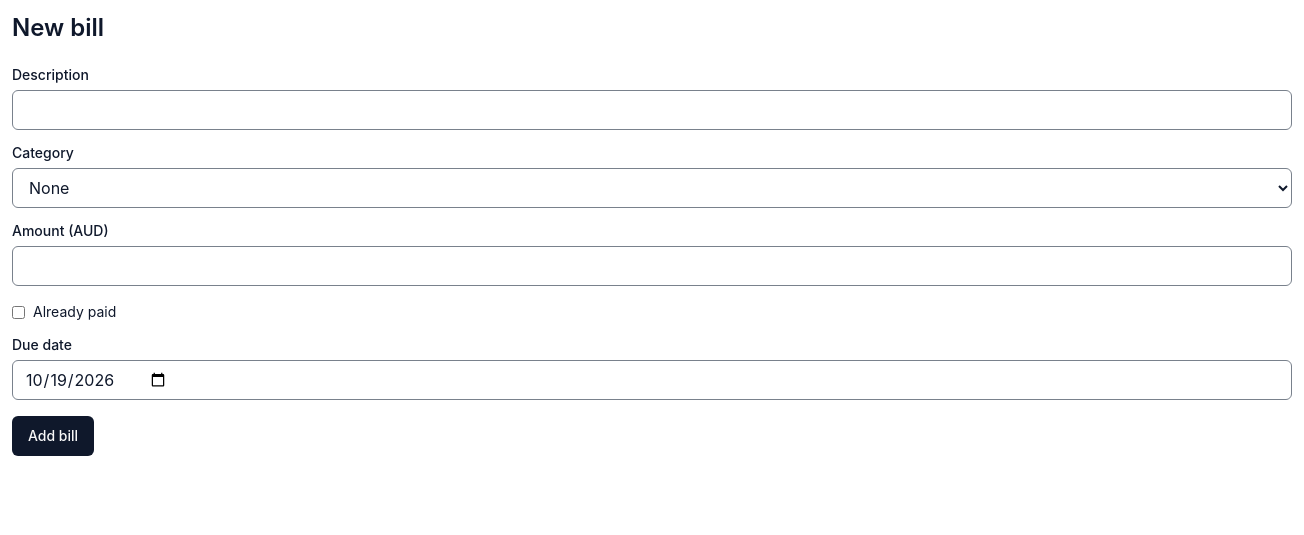
NewBillPage › shows the CONFLICT for no row with the ID (a write clash)
In the field labelled "Description": coordinates (652, 110) [12,90,1292,130], type "Phone"
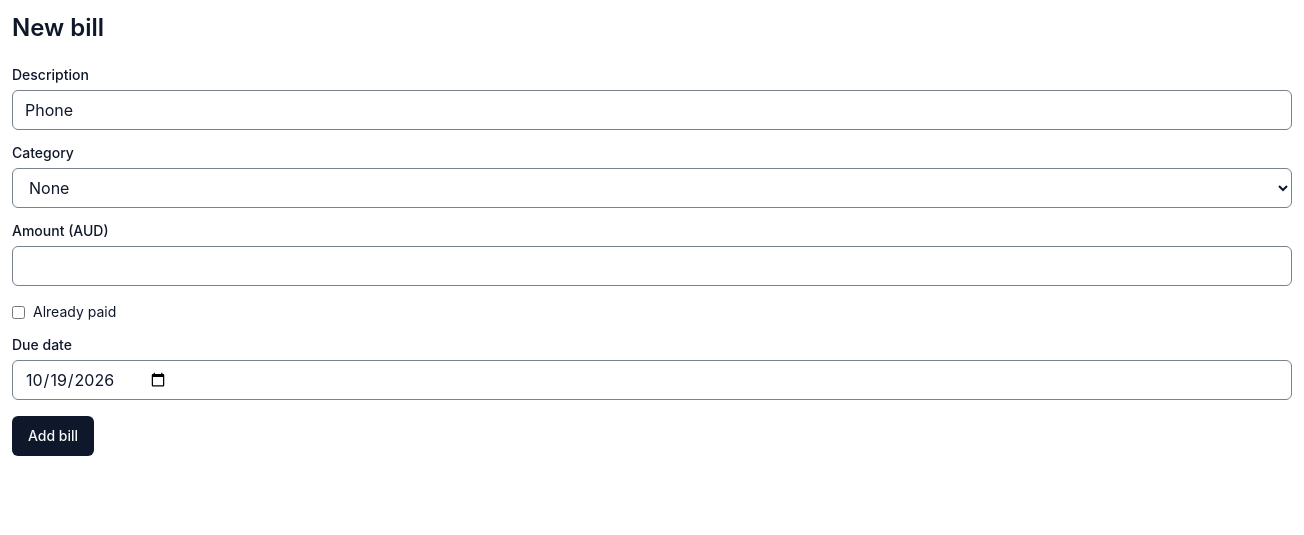
In the field labelled "Amount (AUD)": coordinates (652, 266) [12,246,1292,286], type "46"
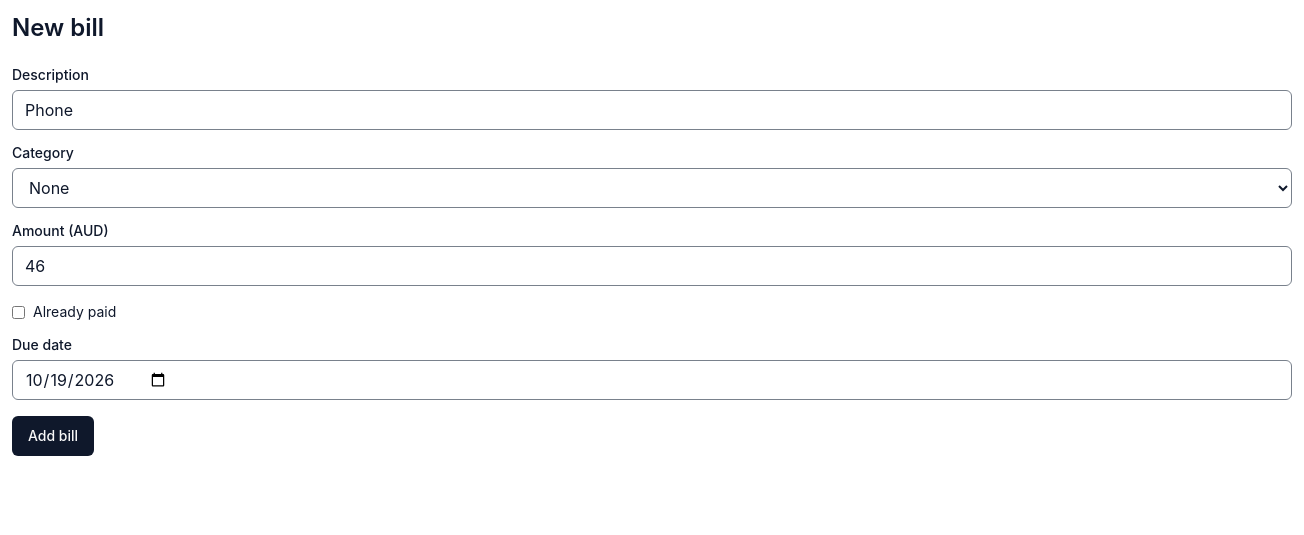
Click the button "Add bill": coordinates (53, 436) [12,416,94,456]
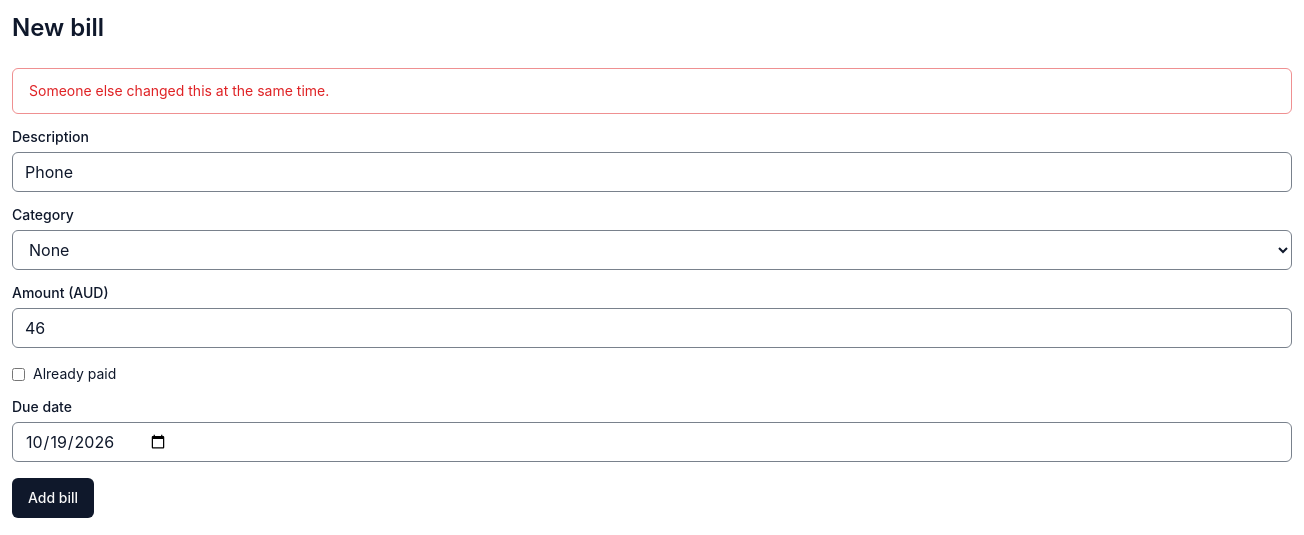
Result: the message reads "Someone else changed this at the same time." at [29,82,329,99]
